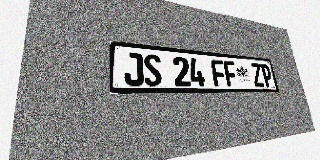2: (173, 56, 191, 86)
4: (188, 57, 205, 87)
F: (211, 59, 227, 87), (223, 60, 239, 87)
J: (123, 52, 144, 86)
P: (260, 64, 274, 87)
S: (143, 53, 163, 86)
Z: (250, 63, 265, 87)
